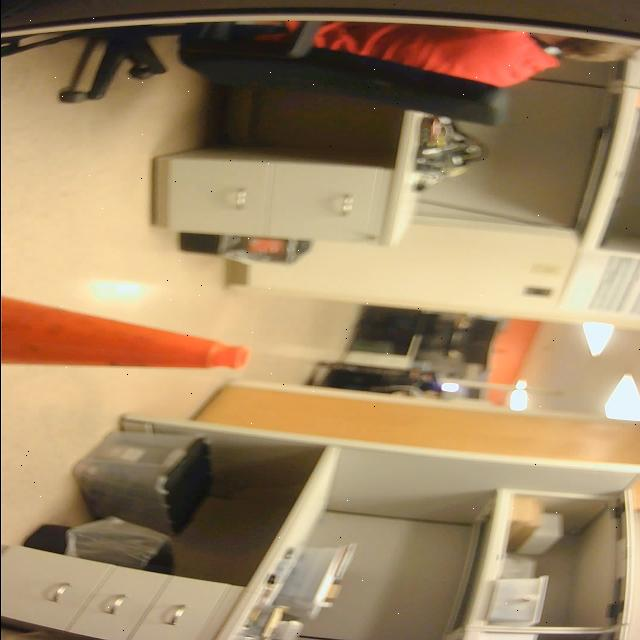traffic cone: (1, 291, 257, 375)
